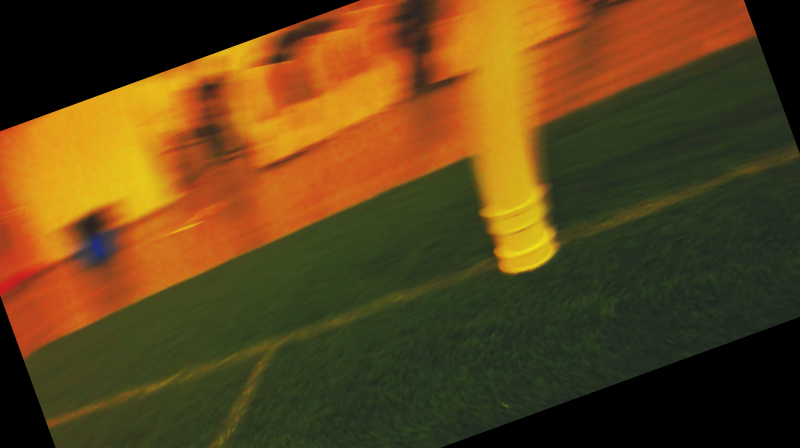post: (458, 171, 593, 292)
